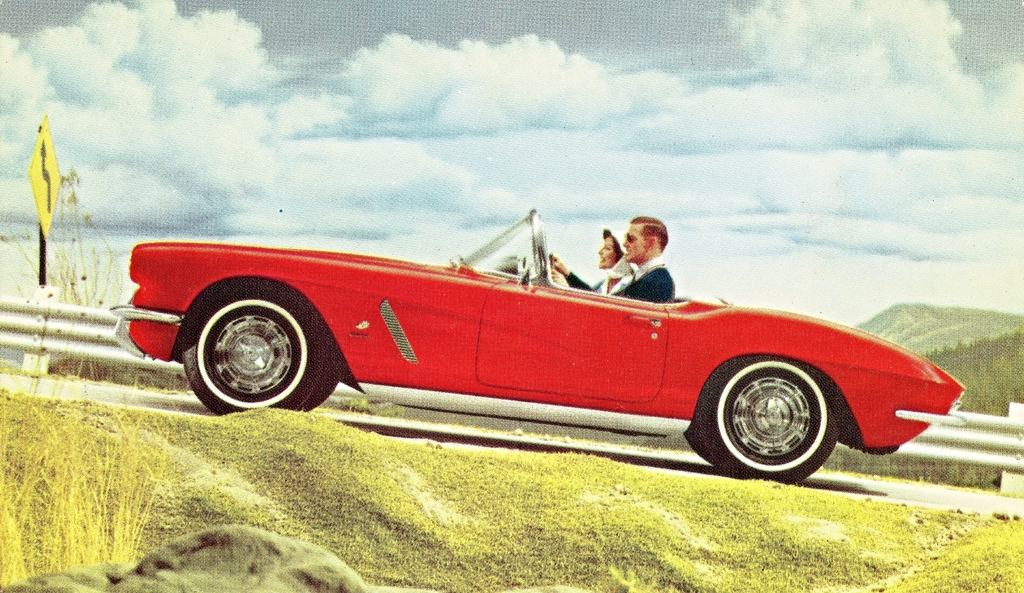cars: (109, 205, 967, 486)
